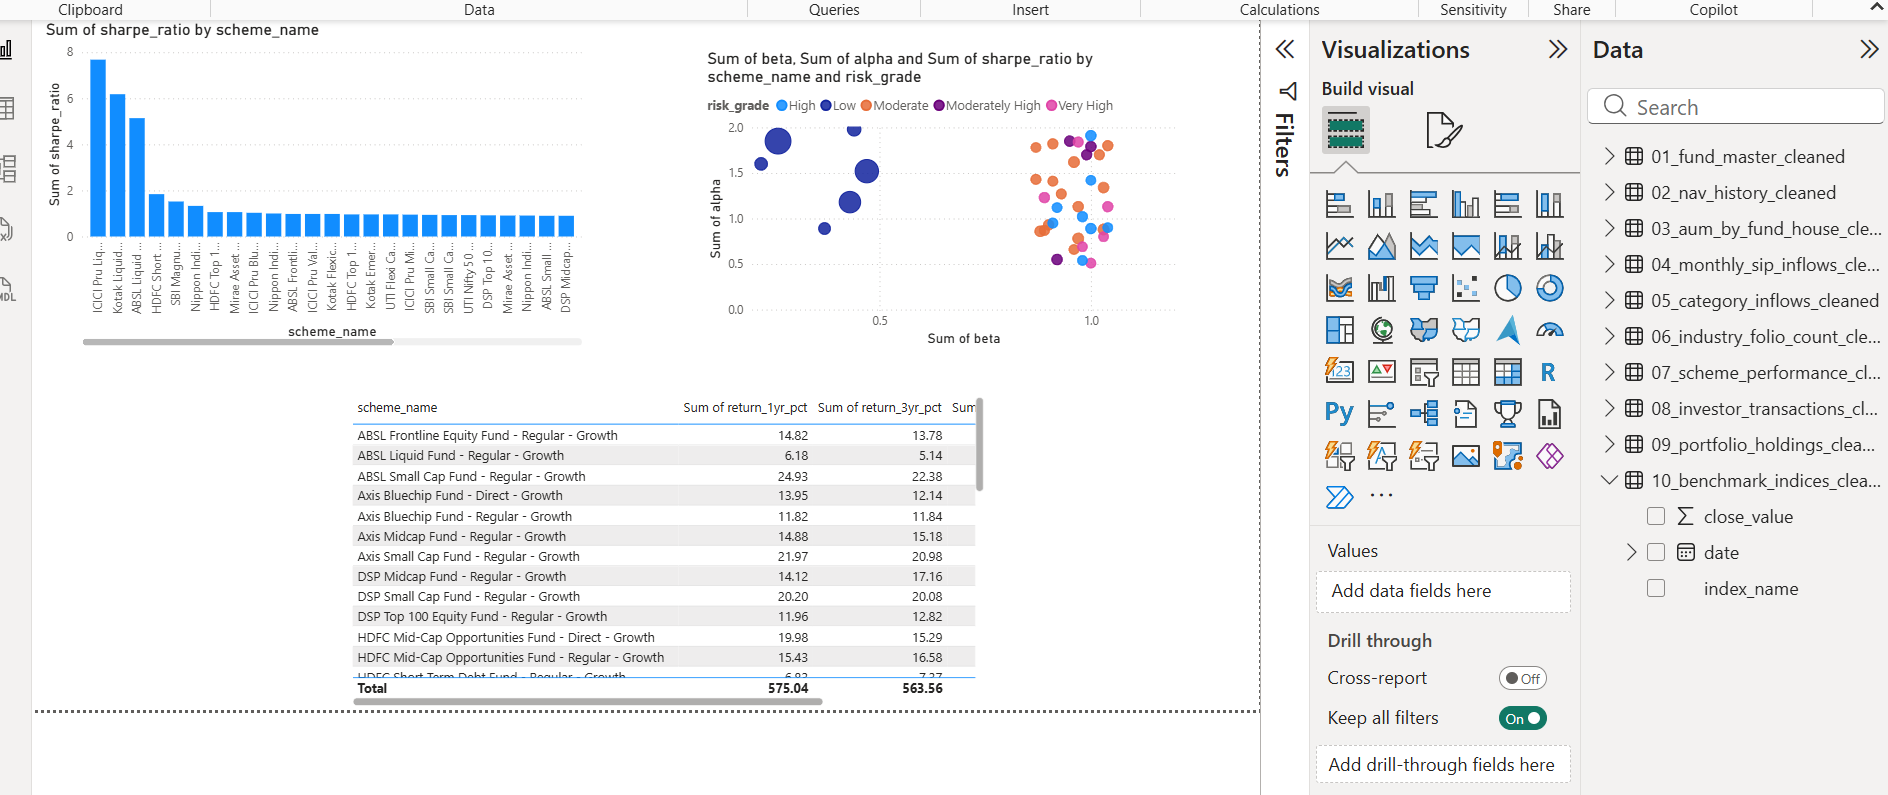

The dashboard page shown, as its layout file describes it:
{"tool":"powerbi","page":{"name":"FUND_PERFORMANCE","canvas":[1280,720],"ordinal":1},"visuals":[{"type":"clusteredColumnChart","fields":{"Category":["07_scheme_performance_cleaned.scheme_name"],"Y":["Sum(07_scheme_performance_cleaned.sharpe_ratio)"]},"box":[9.8,0,568.8,344.4],"z":0},{"type":"scatterChart","fields":{"X":["Sum(07_scheme_performance_cleaned.beta)"],"Y":["Sum(07_scheme_performance_cleaned.alpha)"],"Category":["07_scheme_performance_cleaned.scheme_name"],"Series":["07_scheme_performance_cleaned.risk_grade"],"Size":["Sum(07_scheme_performance_cleaned.sharpe_ratio)"]},"box":[698.7,29.5,505.8,314.9],"z":1000},{"type":"tableEx","fields":{"Values":["07_scheme_performance_cleaned.scheme_name","Sum(07_scheme_performance_cleaned.return_1yr_pct)","Sum(07_scheme_performance_cleaned.return_3yr_pct)","Sum(07_scheme_performance_cleaned.sharpe_ratio)","07_scheme_performance_cleaned.risk_grade"]},"box":[328.7,387.7,669.2,332.6],"z":2000}]}

Visuals, with their boxes on the page's 1280x720 design canvas (x1, y1, x2, y2). These are canvas units, not pixel positions in the 1888x795 screenshot, which may show the page scaled, cropped or inside an application window:
clusteredColumnChart - 07_scheme_performance_cleaned.scheme_name x Sum(07_scheme_performance_cleaned.sharpe_ratio): region(10, 0, 579, 344)
scatterChart - Sum(07_scheme_performance_cleaned.beta) x Sum(07_scheme_performance_cleaned.alpha): region(699, 30, 1204, 344)
tableEx - 07_scheme_performance_cleaned.scheme_name x Sum(07_scheme_performance_cleaned.return_1yr_pct): region(329, 388, 998, 720)
